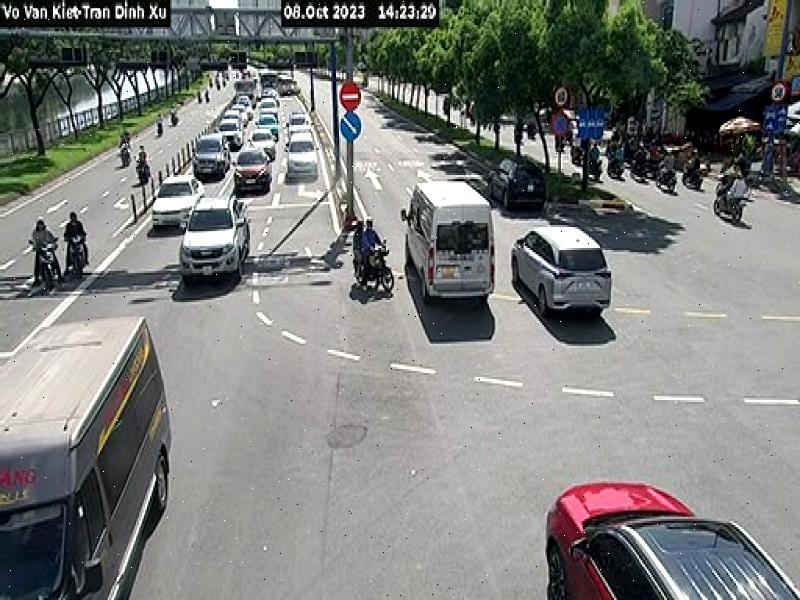car: (3, 308, 183, 600), (544, 480, 800, 600), (401, 177, 497, 309), (510, 226, 618, 326), (179, 194, 254, 294), (488, 154, 549, 215), (150, 171, 198, 234), (232, 144, 275, 203), (284, 133, 322, 184), (192, 133, 228, 179)
motorcycle: (347, 241, 401, 297), (63, 232, 93, 281), (35, 236, 61, 287)
